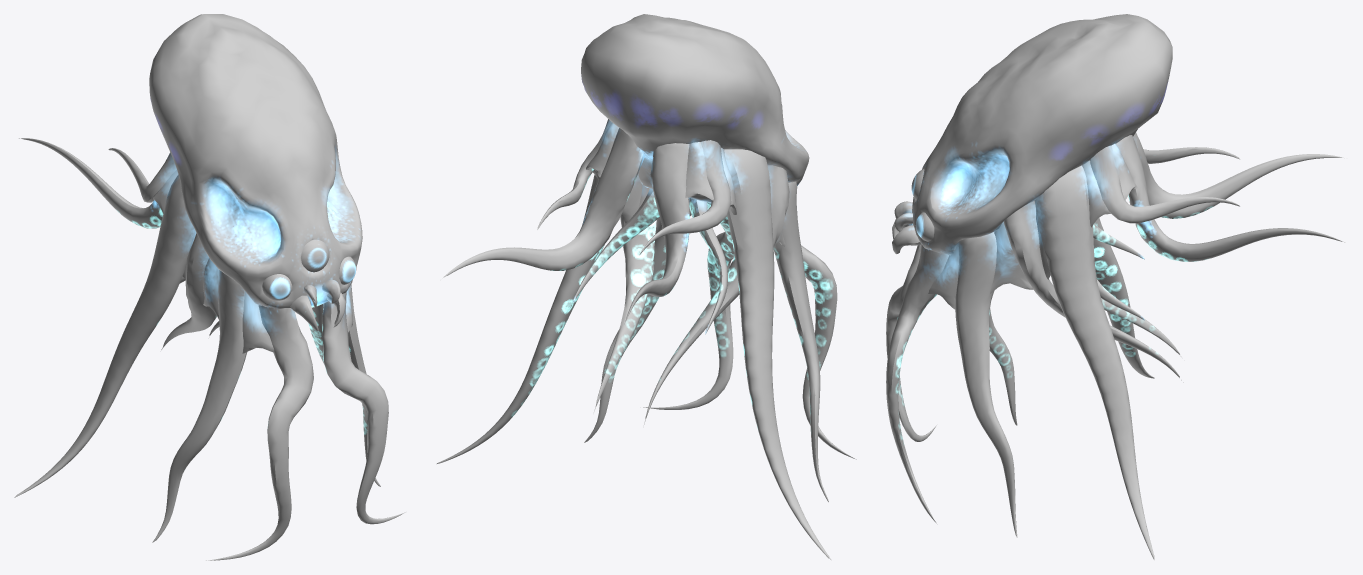
The model's file is uzaylı.fbx.
The picture shows the model from 3 angles, left to right: view 1: azimuth 30°, elevation 25°; view 2: azimuth 150°, elevation 25°; view 3: azimuth 270°, elevation 25°; orthographic projection. The views are drawn at different scales.
Parts seen in each view (by area): view 1: Object_3, Object_2; view 2: Object_2, Object_3; view 3: Object_2, Object_3.
Part boxes in pixels (bbox=[...]): Object_3: bbox=[149, 14, 362, 353]; Object_2: bbox=[14, 138, 405, 560]; Object_2: bbox=[437, 119, 856, 559]; Object_3: bbox=[581, 14, 809, 246]; Object_2: bbox=[886, 132, 1344, 559]; Object_3: bbox=[912, 14, 1172, 309].
Bounding box in the file's own units: 446 × 524 × 477.
